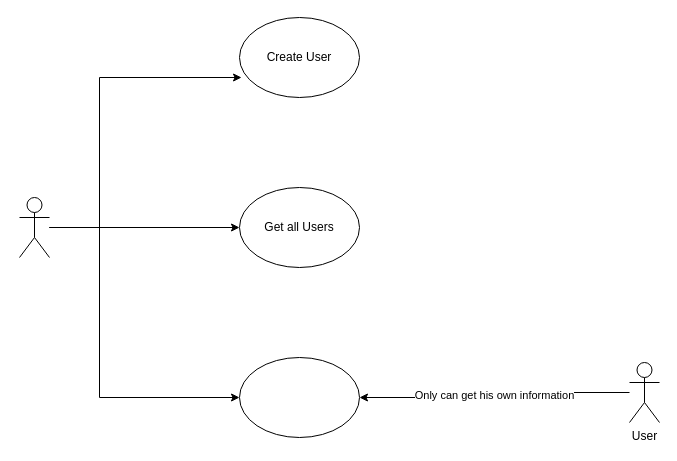
This 677x461 diagram has some shape labels left out. Here are the shapes that lost their labels. From the top down, the centre of each, then its label:
At point (34, 227): "Admin".
At point (299, 397): "Find User by email".
